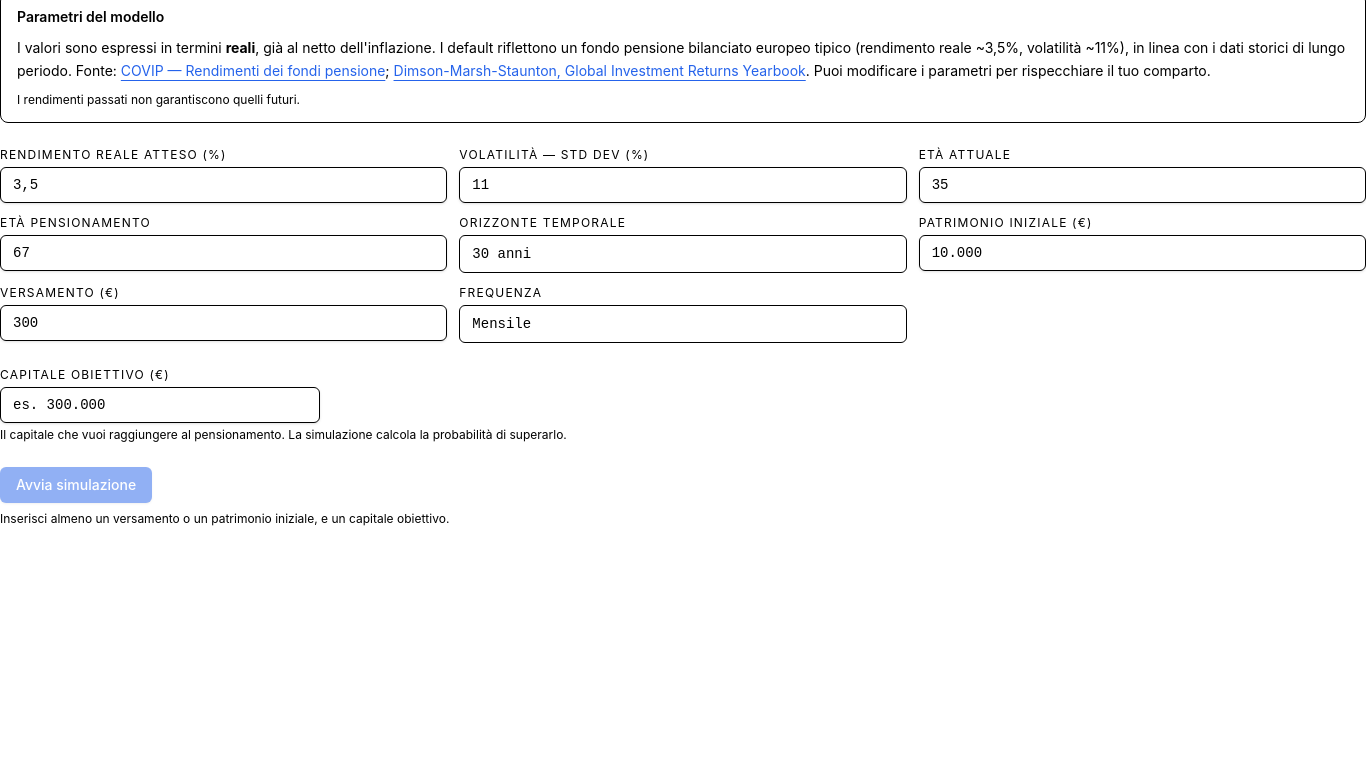
Test: MonteCarlo component › simulation results › shows the disclaimer after simulation
The width and height of the screenshot is (1366, 761).
Type "200.000" into the field labelled "Capitale obiettivo (€)". click: x=160, y=405
box: [0,387,320,423]
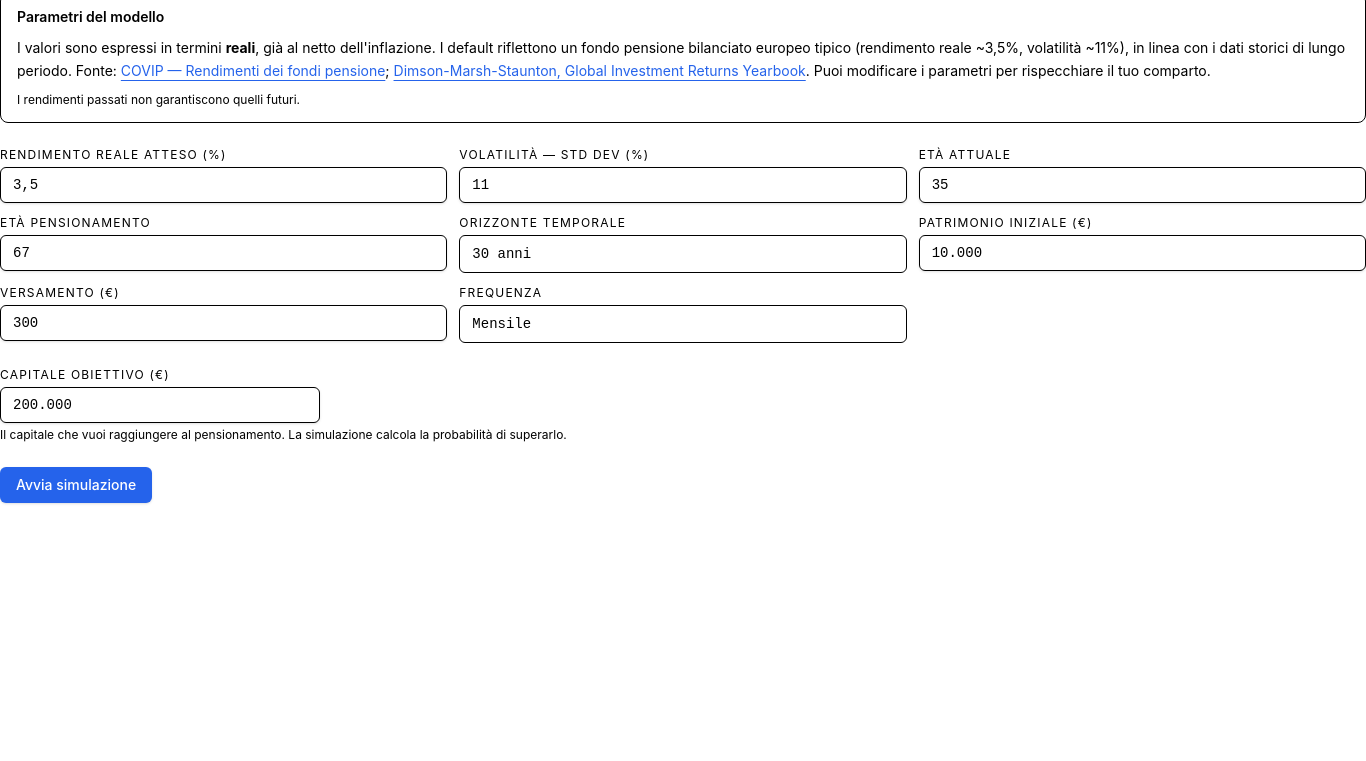
Click the button "Avvia simulazione". click: x=76, y=485
box: [0,467,152,503]
(page scrolled)
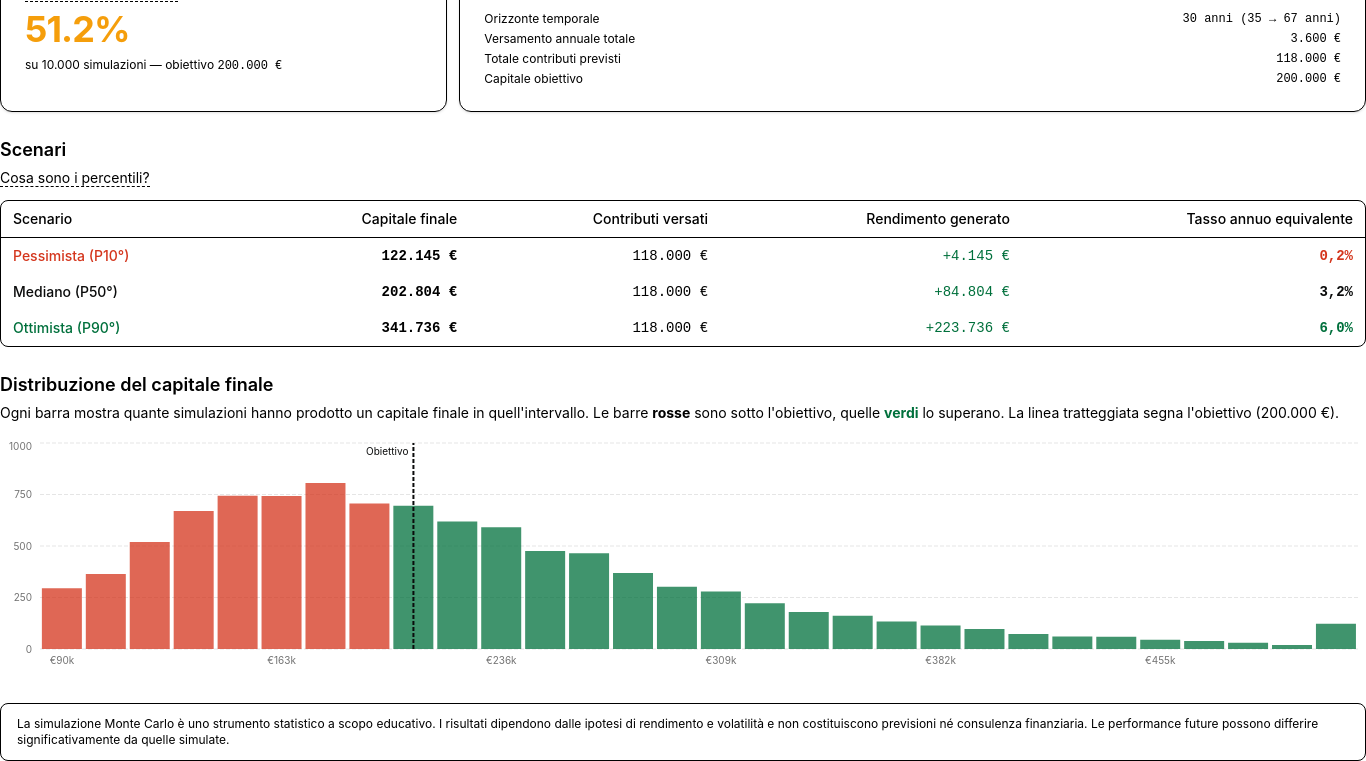
Result: the text "strumento statistico a scopo educativo" is shown at [17,716,1318,747]
